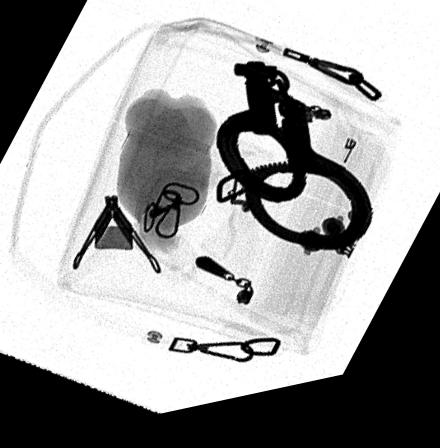HandCuffs: (214, 72, 373, 266)
